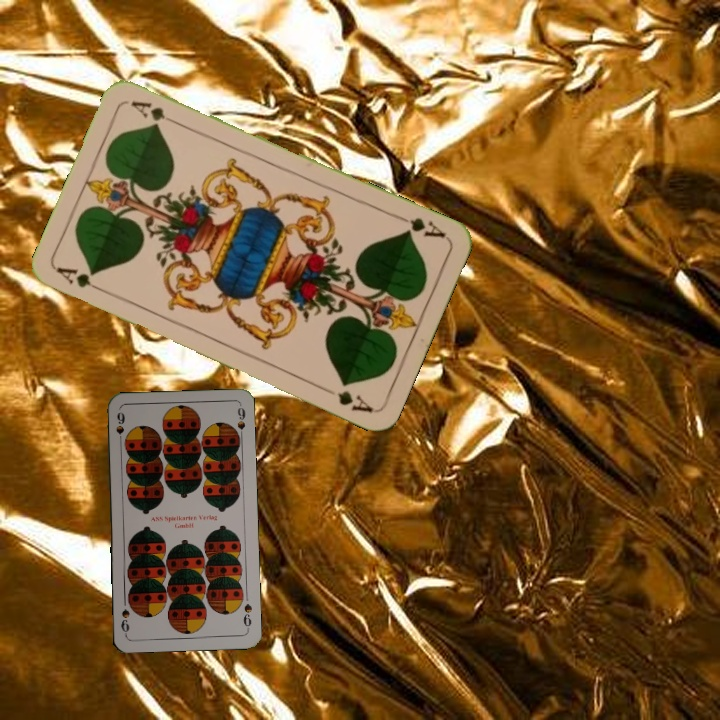GA: (53, 263, 109, 296), (392, 210, 448, 241)
S9: (112, 407, 127, 448), (239, 600, 254, 633)
